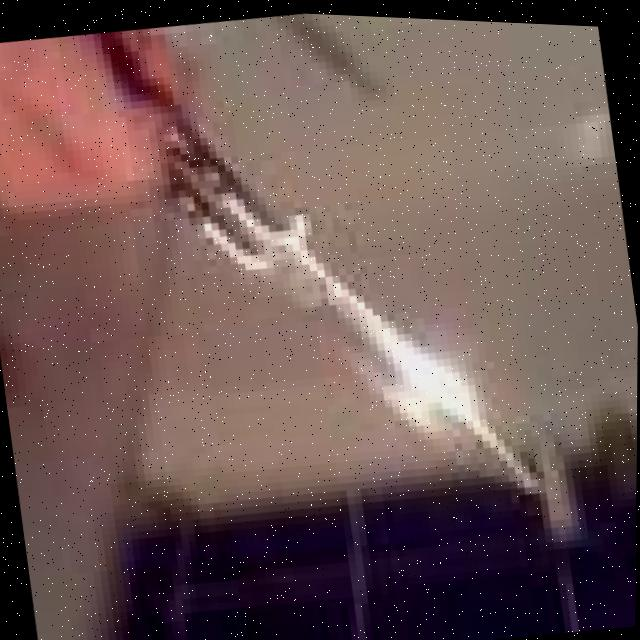knife: (160, 99, 575, 552)
